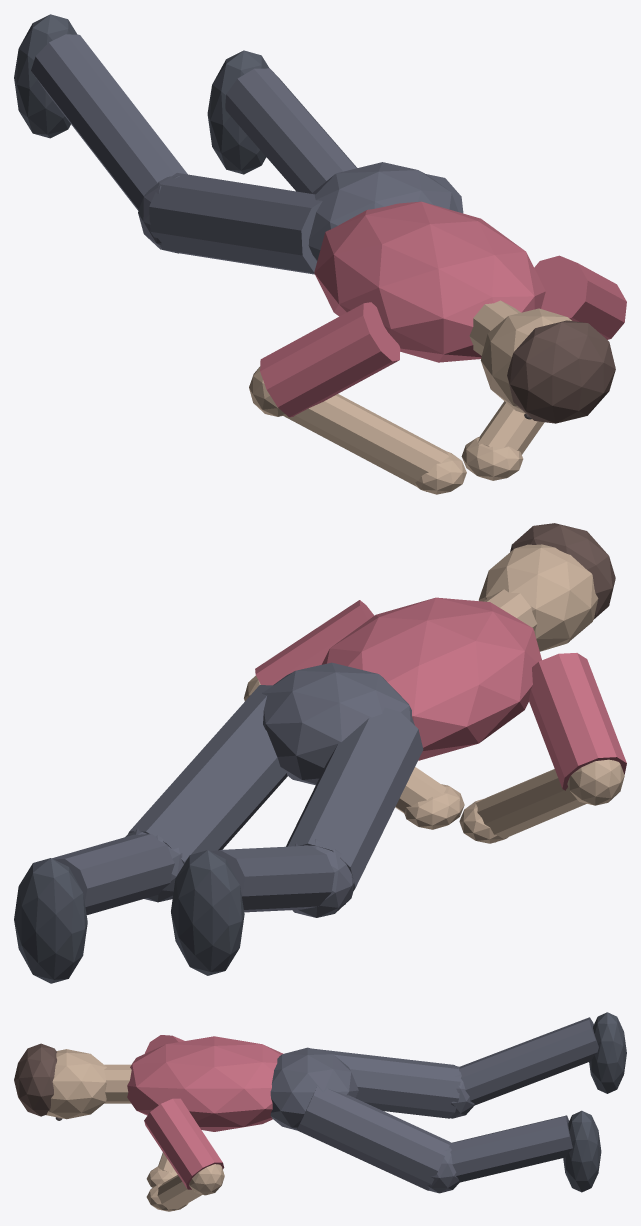
3 views of the same model, one above another, from view 1: azimuth 30°, elevation 25°; view 2: azimuth 150°, elevation 25°; view 3: azimuth 270°, elevation 25° (orthographic). The views are drawn at different scales.
Parts seen in each view (by area): view 1: world; view 2: world; view 3: world.
Part boxes in pixels (left/top/right/bottom): world: left=14, top=14, right=626, bottom=494; world: left=14, top=523, right=626, bottom=983; world: left=14, top=1012, right=626, bottom=1211.
Size of the model in its own units: 0.93 by 0.5928 by 2.04.
